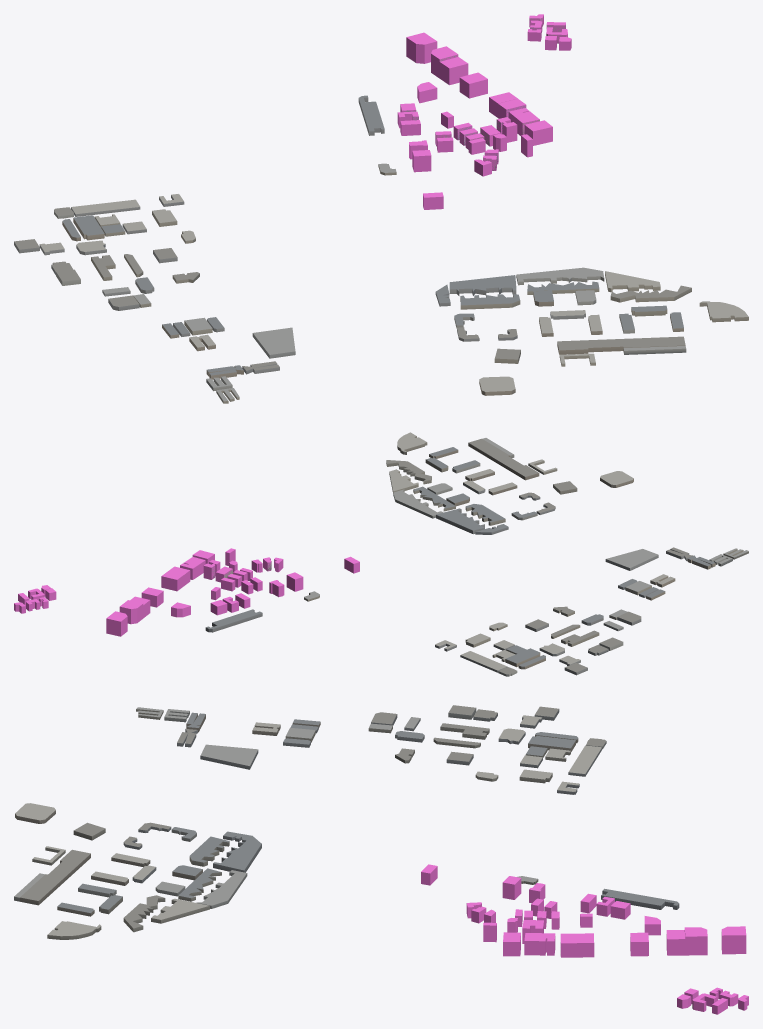
The model's file is bld_18_8.fbx.
3 views of the same model, one above another, from view 1: azimuth 30°, elevation 25°; view 2: azimuth 150°, elevation 25°; view 3: azimuth 270°, elevation 25° (orthographic). The views are drawn at different scales.
Parts seen in each view (by area): view 1: bld_18_8_LOD0, bld_18_8_COL; view 2: bld_18_8_LOD0, bld_18_8_COL; view 3: bld_18_8_LOD0, bld_18_8_COL.
Part boxes in pixels (<box>): bld_18_8_LOD0: <box>14,18,748,403</box>; bld_18_8_COL: <box>397,14,571,209</box>; bld_18_8_LOD0: <box>205,432,748,676</box>; bld_18_8_COL: <box>14,548,359,636</box>; bld_18_8_LOD0: <box>14,705,738,1009</box>; bld_18_8_COL: <box>421,864,748,1014</box>.
Size of what is drawn, in the model's own units: 1999 by 57.67 by 2034.
